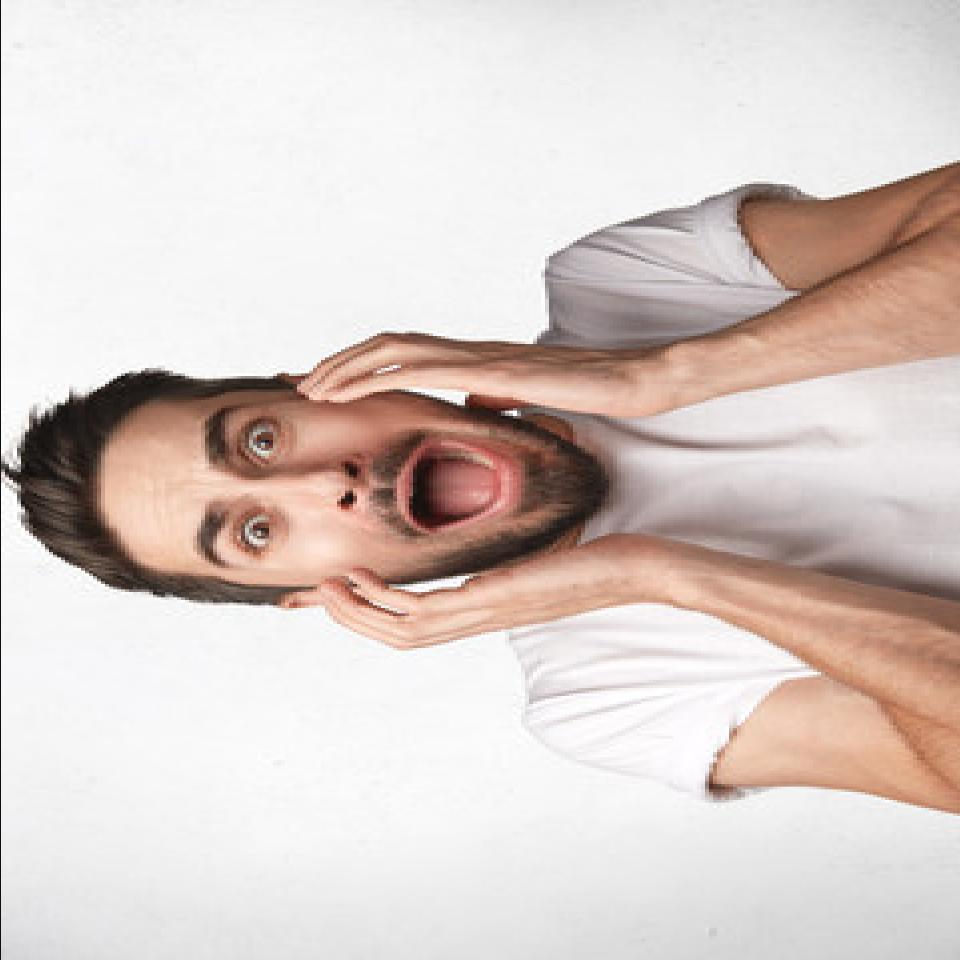Scared: (172, 399, 582, 589)
